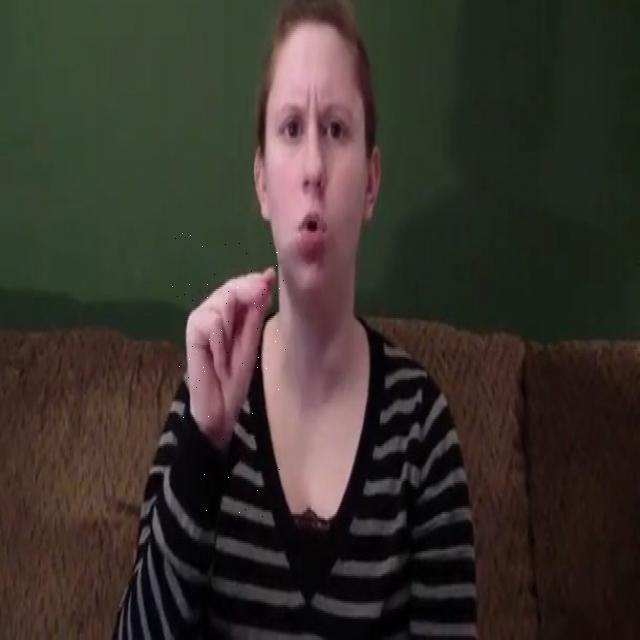no: (172, 233, 286, 517)
